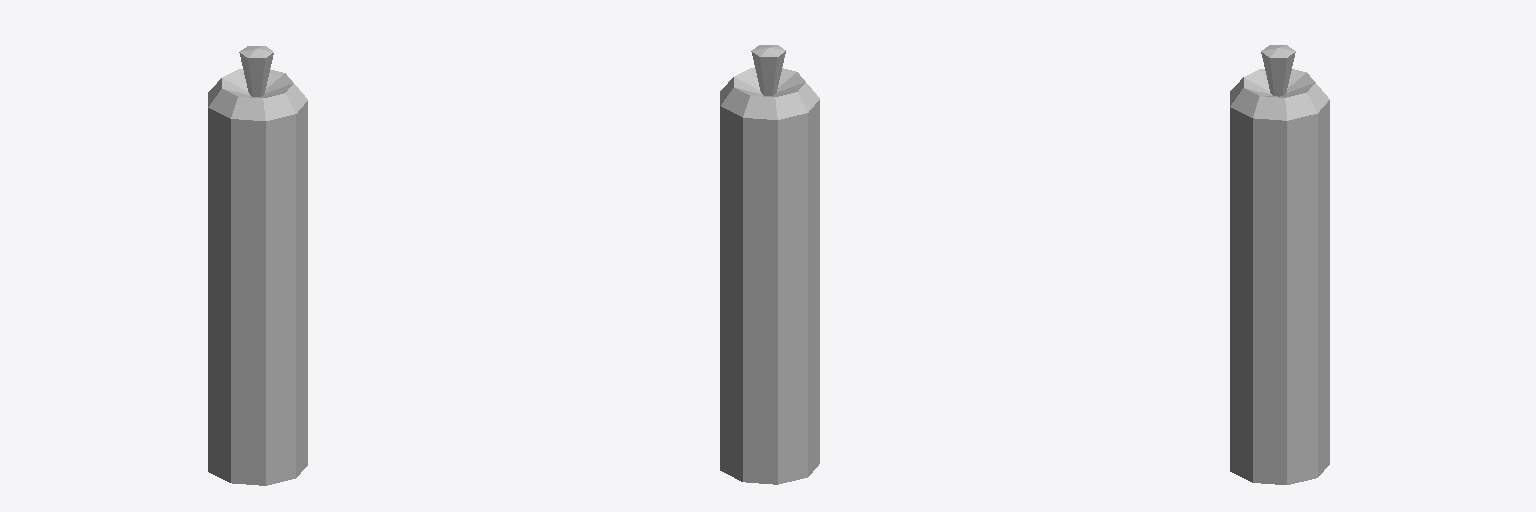
File: candle_thin.obj
3 renders of one model, left to right at view 1: azimuth 30°, elevation 25°; view 2: azimuth 150°, elevation 25°; view 3: azimuth 270°, elevation 25°, orthographic.
Parts seen in each view (by area): view 1: candle_thin; view 2: candle_thin; view 3: candle_thin.
Boxes of the visible parts, x1=… form: candle_thin: x1=208, y1=46, x2=307, y2=485; candle_thin: x1=720, y1=45, x2=819, y2=484; candle_thin: x1=1230, y1=45, x2=1329, y2=484.
Size of the model in its own units: 0.1932 by 0.873 by 0.1903.